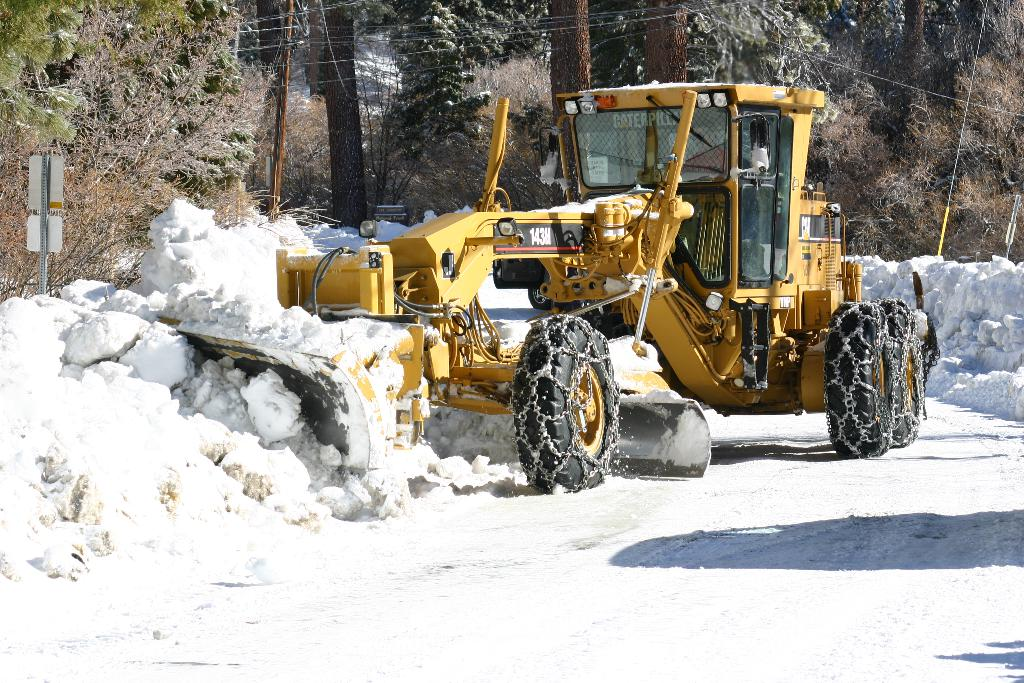Tree: (0, 0, 1022, 303)
